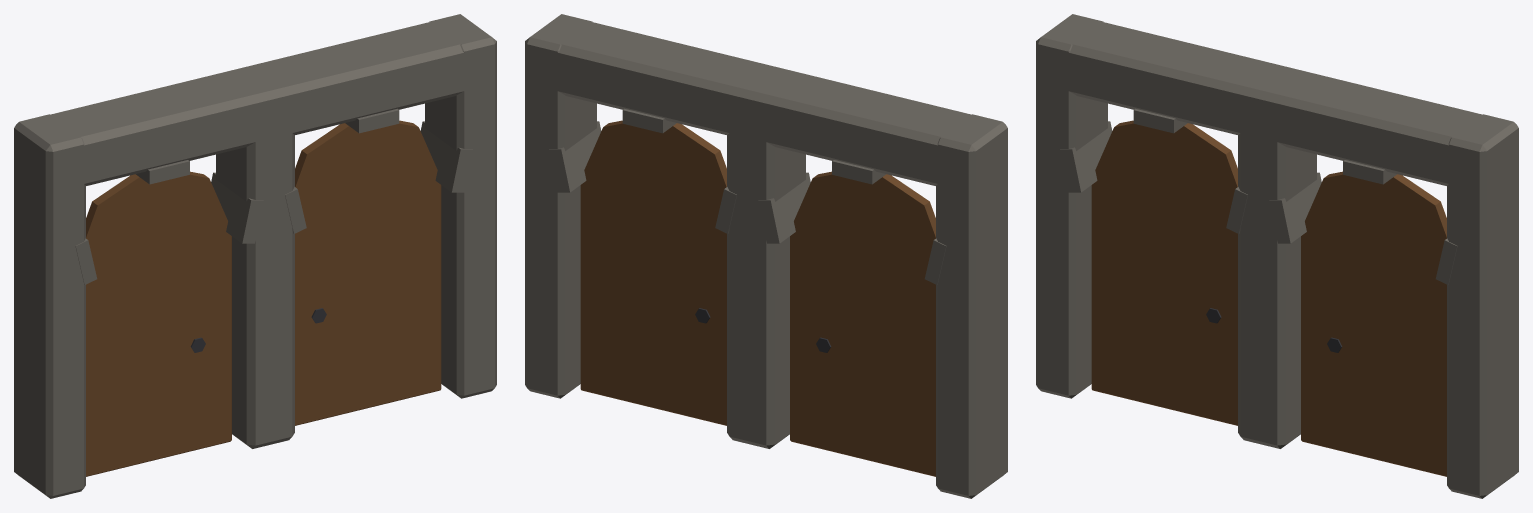
The model's file is Bld_Lab_TwinDoors_Closed_LOD1.glb.
3 renders of one model, left to right at view 1: azimuth 30°, elevation 25°; view 2: azimuth 150°, elevation 25°; view 3: azimuth 330°, elevation 25°, orthographic.
Parts seen in each view (by area): view 1: Bld_Lab_TwinDoors_Closed, Bld_Lab_TwinDoors_Closed_DoorB, Bld_Lab_TwinDoors_Closed_DoorA; view 2: Bld_Lab_TwinDoors_Closed, Bld_Lab_TwinDoors_Closed_DoorB, Bld_Lab_TwinDoors_Closed_DoorA; view 3: Bld_Lab_TwinDoors_Closed, Bld_Lab_TwinDoors_Closed_DoorA, Bld_Lab_TwinDoors_Closed_DoorB.
Part boxes in pixels (x1,y1,x2,y2): Bld_Lab_TwinDoors_Closed: (14,14,496,498); Bld_Lab_TwinDoors_Closed_DoorB: (295,120,441,425); Bld_Lab_TwinDoors_Closed_DoorA: (86,171,231,476); Bld_Lab_TwinDoors_Closed: (525,14,1007,498); Bld_Lab_TwinDoors_Closed_DoorB: (580,120,726,425); Bld_Lab_TwinDoors_Closed_DoorA: (790,171,935,476); Bld_Lab_TwinDoors_Closed: (1036,14,1518,498); Bld_Lab_TwinDoors_Closed_DoorA: (1091,120,1237,425); Bld_Lab_TwinDoors_Closed_DoorB: (1301,171,1446,476).
Bounding box in the file's own units: 5.6 × 4.2 × 0.82.
